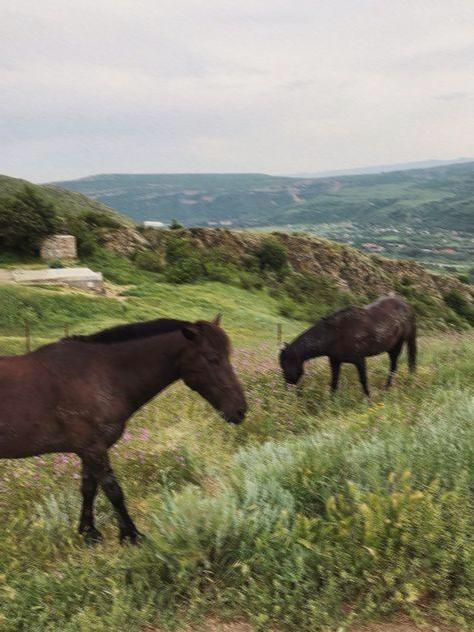horse: (0, 311, 247, 548), (276, 295, 418, 400)
